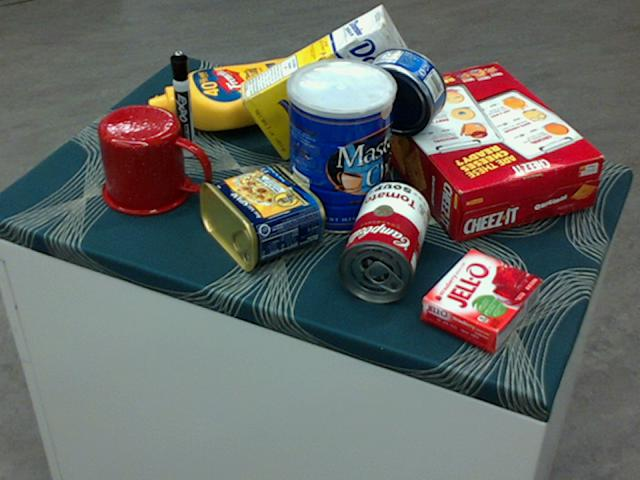cracker_box: (367, 61, 601, 241)
gelatin_box: (421, 248, 540, 351)
large_marker: (168, 51, 196, 157)
master_chef_can: (285, 59, 395, 235)
mug: (98, 104, 208, 216)
mustard_bottle: (146, 55, 320, 130)
potted_meat_can: (196, 163, 323, 271)
sugar_box: (237, 5, 424, 161)
tomato_soup_can: (335, 180, 430, 301)
tuna_fish_can: (357, 45, 446, 134)
